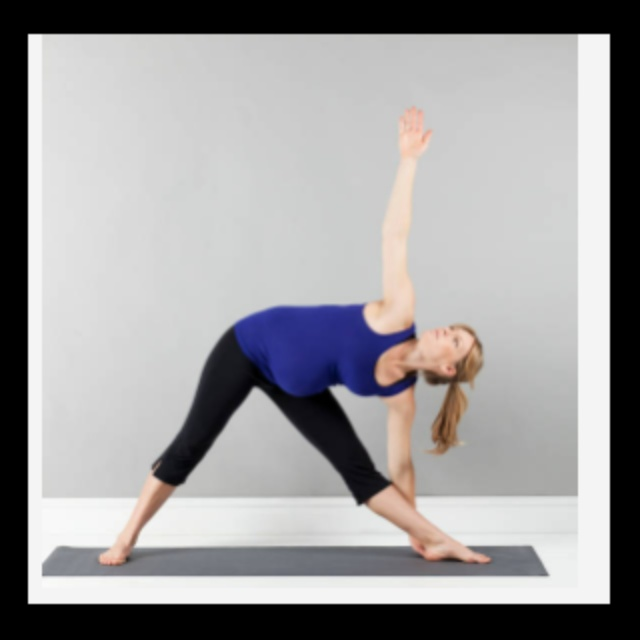Triangle_Pose: (88, 102, 500, 569)
